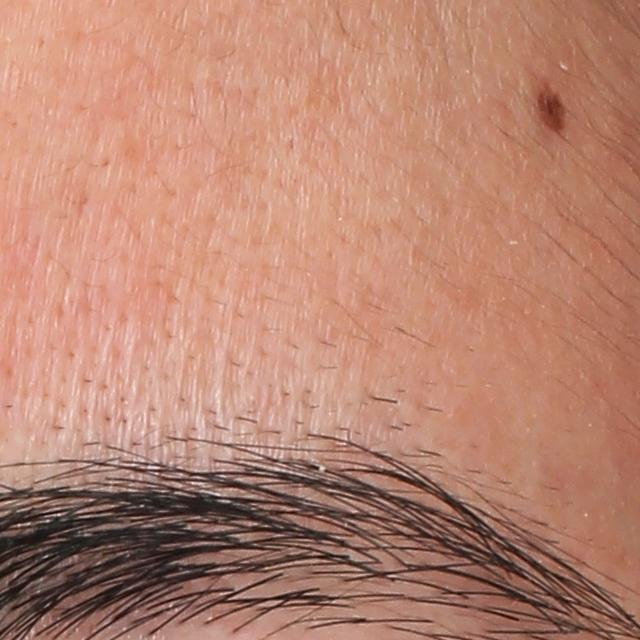nevus: (530, 81, 568, 132)
